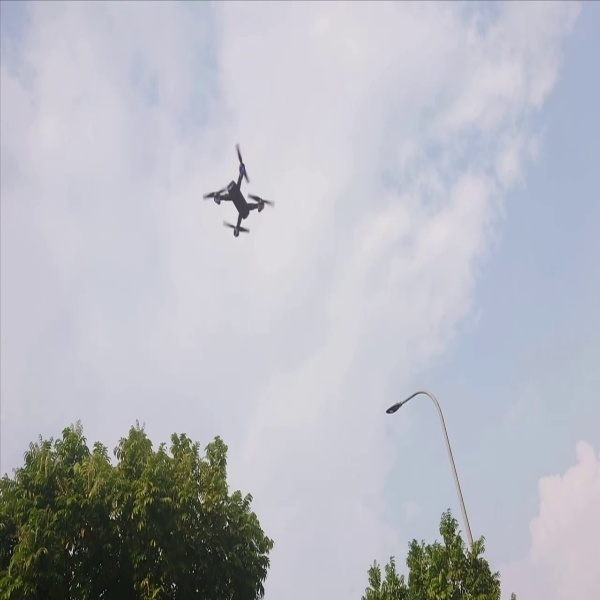drone: (196, 140, 276, 243)
